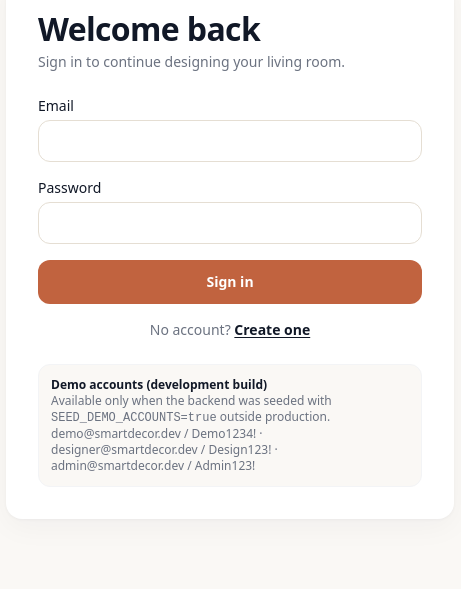
Test case: login failure path › shows the server's message (ApiError.message), not the stale axios-shaped fallback
This screenshot has width=461, height=589.
Type "x@y.com" into the field labelled "Email" at point(230, 141), box left=38, top=120, right=422, bottom=162
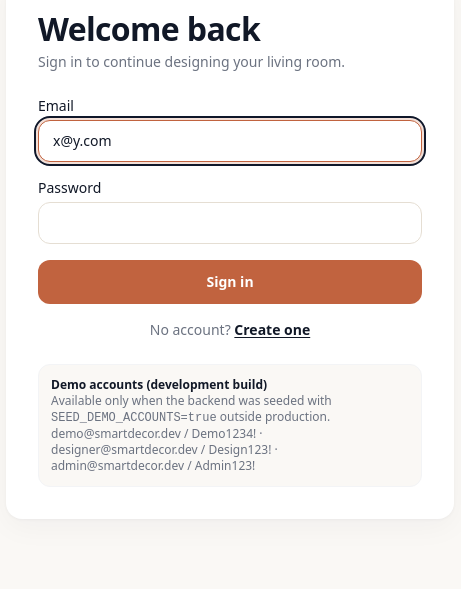
Type "WrongPass1!" into the password field labelled "Password" at point(230, 223), box left=38, top=202, right=422, bottom=244
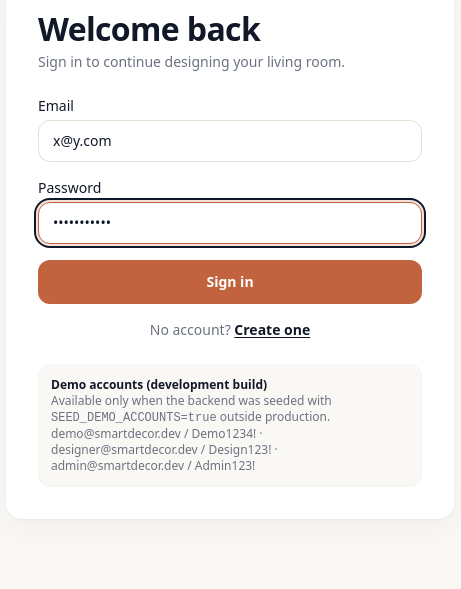
Click the button "Sign in" at point(230, 282), box left=38, top=260, right=422, bottom=304
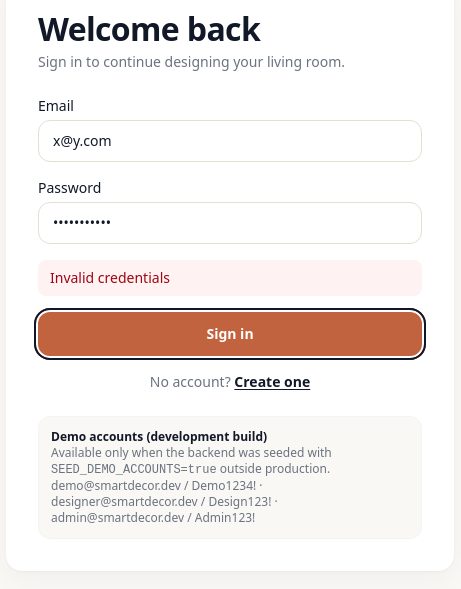
Check: the text "Invalid credentials" is shown, box left=38, top=260, right=422, bottom=296
